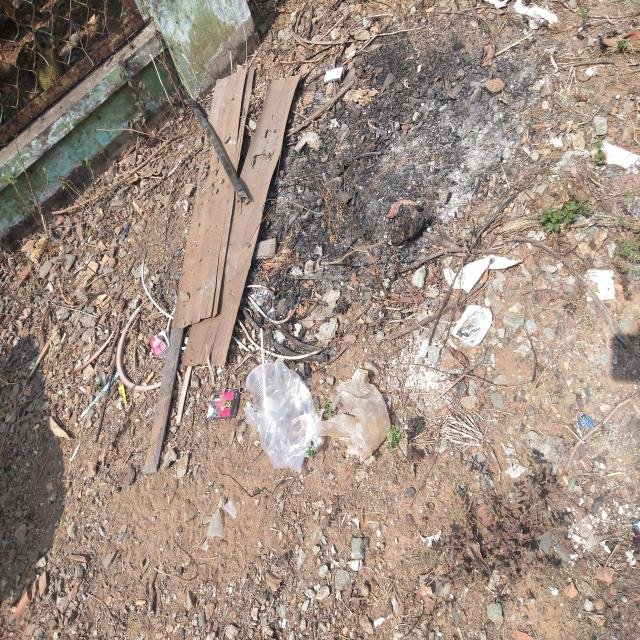litter: (246, 359, 324, 474), (246, 363, 293, 441), (452, 305, 492, 347), (206, 388, 240, 420), (150, 330, 170, 359), (260, 329, 266, 402), (324, 67, 344, 85), (118, 386, 126, 407), (120, 223, 129, 241)
